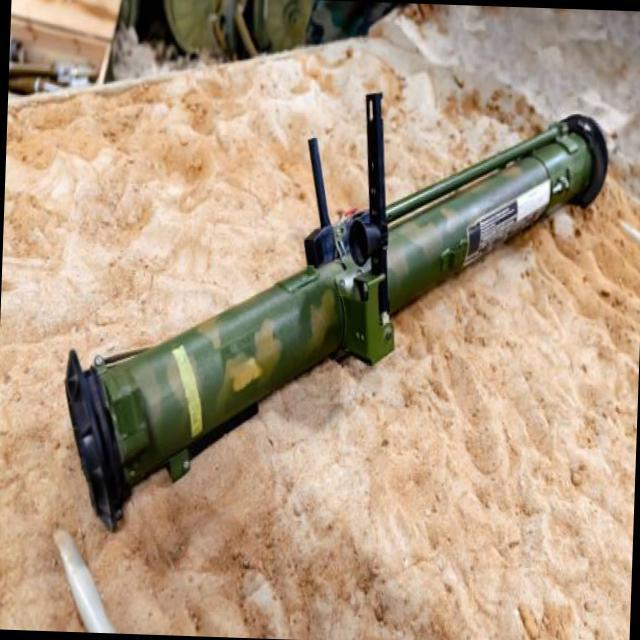rocket: (56, 85, 606, 553)
